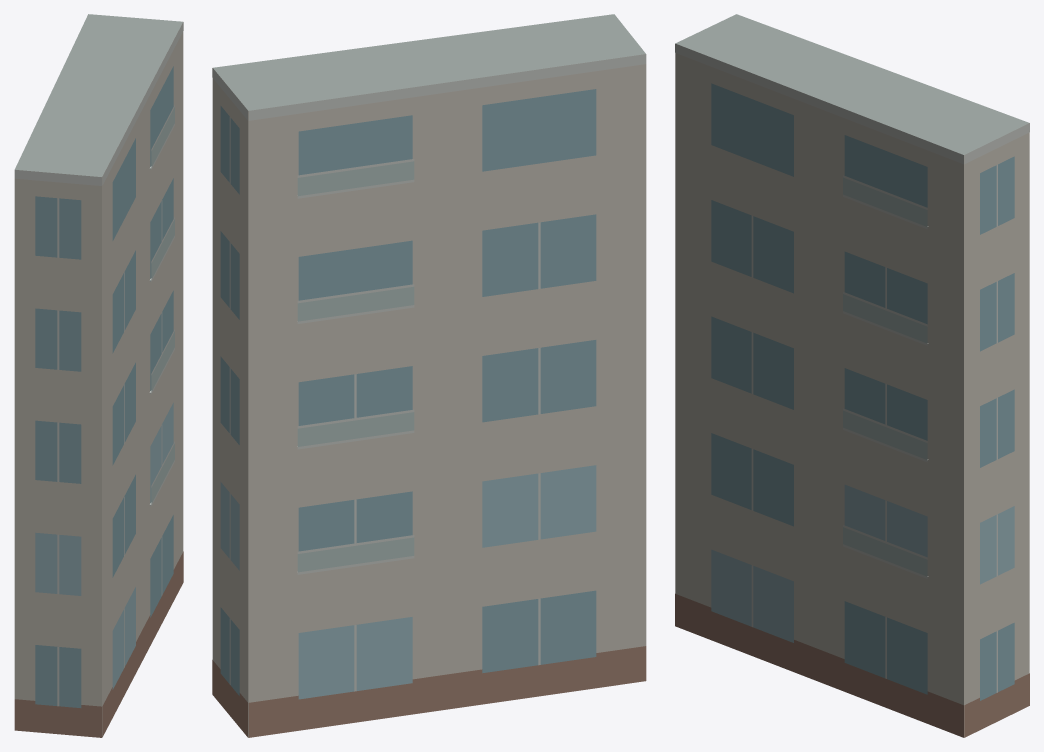
The model's file is survey-upis-32523463.glb.
3 renders of one model, left to right at view 1: azimuth 30°, elevation 25°; view 2: azimuth 150°, elevation 25°; view 3: azimuth 270°, elevation 25°, orthographic. The views are drawn at different scales.
Parts seen in each view (by area): view 1: survey-upis-32523463.tmp; view 2: survey-upis-32523463.tmp; view 3: survey-upis-32523463.tmp.
Boxes of the visible parts, x1=… form: survey-upis-32523463.tmp: x1=14, y1=14, x2=183, y2=737; survey-upis-32523463.tmp: x1=212, y1=14, x2=646, y2=737; survey-upis-32523463.tmp: x1=675, y1=14, x2=1029, y2=737.
Size of the model in its own units: 7.93 by 15.25 by 8.42.
